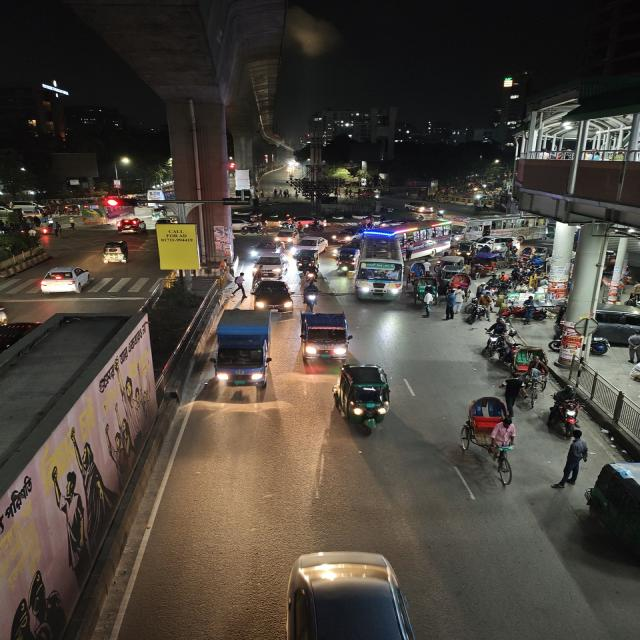bus: (365, 218, 453, 262), (352, 258, 407, 303), (458, 214, 546, 242)
car: (276, 546, 437, 640), (35, 264, 94, 298), (252, 278, 296, 313), (251, 255, 288, 279), (248, 239, 285, 259), (293, 235, 328, 255), (114, 217, 146, 234), (331, 226, 360, 244), (406, 201, 436, 214), (274, 228, 298, 244)
cng: (334, 361, 396, 435), (97, 240, 133, 266), (334, 246, 359, 273), (293, 252, 318, 273)
motorcycle: (546, 384, 588, 437), (482, 316, 514, 355), (300, 280, 322, 309), (240, 223, 266, 237)
pedestrian: (558, 430, 590, 486), (500, 375, 530, 411), (443, 290, 461, 320), (417, 289, 435, 319), (232, 272, 246, 300)
pickup_van: (298, 310, 353, 362)
rickshaw: (454, 393, 519, 481)
truck: (210, 308, 275, 392)
